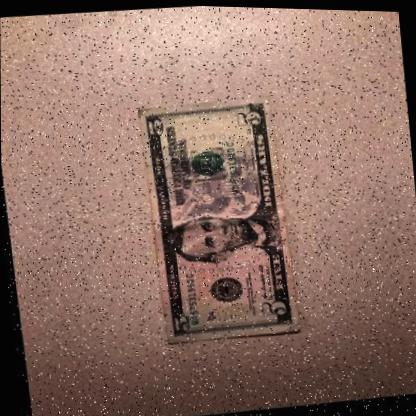five-front: (135, 91, 299, 349)
